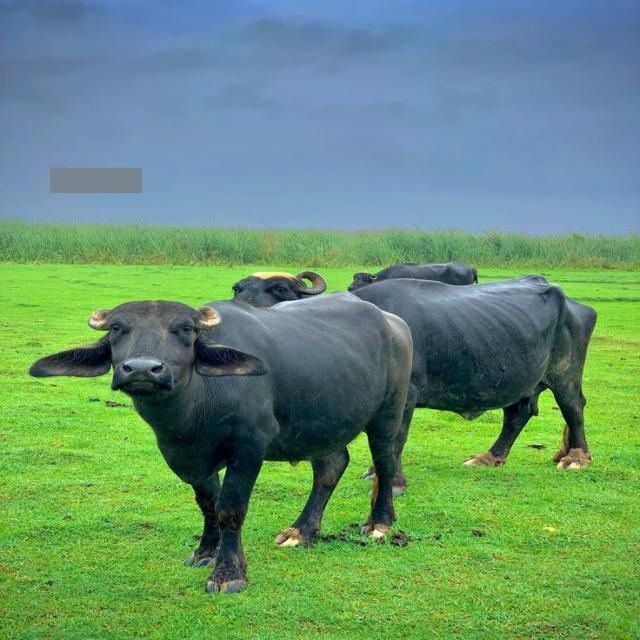Buffalo: (27, 293, 414, 594)
